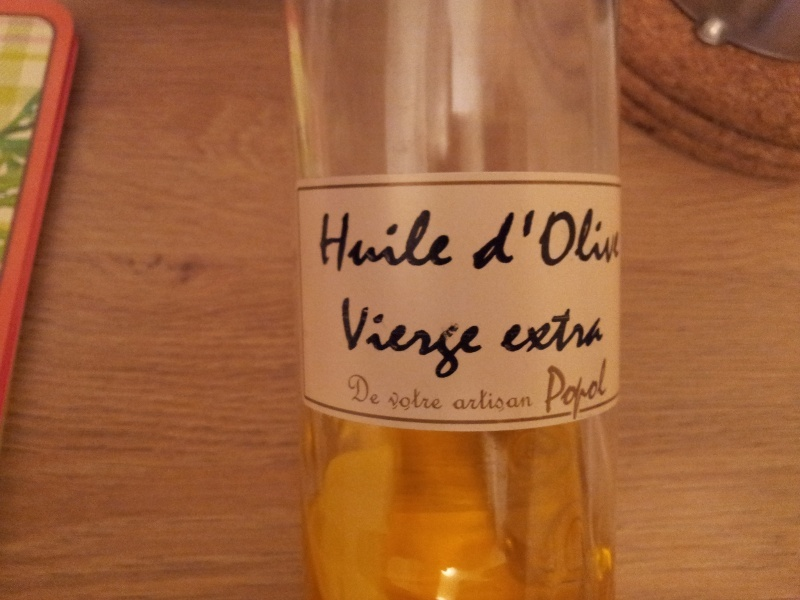text: (337, 292, 352, 384), (353, 292, 368, 384), (369, 292, 384, 384), (385, 292, 400, 384), (401, 292, 416, 384), (417, 292, 432, 384), (433, 292, 448, 384), (449, 292, 464, 384), (465, 292, 480, 384), (513, 198, 528, 276), (529, 198, 544, 276), (545, 198, 560, 276), (561, 198, 576, 276), (577, 198, 592, 276), (593, 198, 608, 276), (609, 198, 624, 276), (498, 198, 512, 276), (561, 357, 576, 428), (577, 357, 592, 428), (593, 357, 608, 428), (481, 292, 492, 384), (321, 209, 336, 274), (337, 209, 352, 274), (353, 209, 368, 274), (369, 209, 384, 274), (385, 209, 400, 274), (401, 209, 416, 274), (417, 209, 432, 274), (433, 209, 448, 274), (547, 357, 560, 428), (497, 302, 512, 358), (513, 302, 528, 358), (529, 302, 544, 358), (545, 302, 560, 358), (561, 302, 576, 358), (577, 302, 592, 358), (593, 302, 606, 358), (329, 292, 336, 384), (449, 209, 458, 274), (353, 372, 368, 408), (369, 372, 384, 408), (465, 384, 480, 413), (481, 384, 496, 413), (497, 384, 512, 413), (513, 384, 528, 413), (401, 386, 416, 412), (417, 386, 432, 412), (388, 386, 400, 412), (454, 384, 464, 413), (433, 386, 444, 412), (609, 357, 613, 428), (529, 384, 535, 413), (625, 198, 627, 276), (319, 209, 320, 274), (351, 372, 352, 408)
